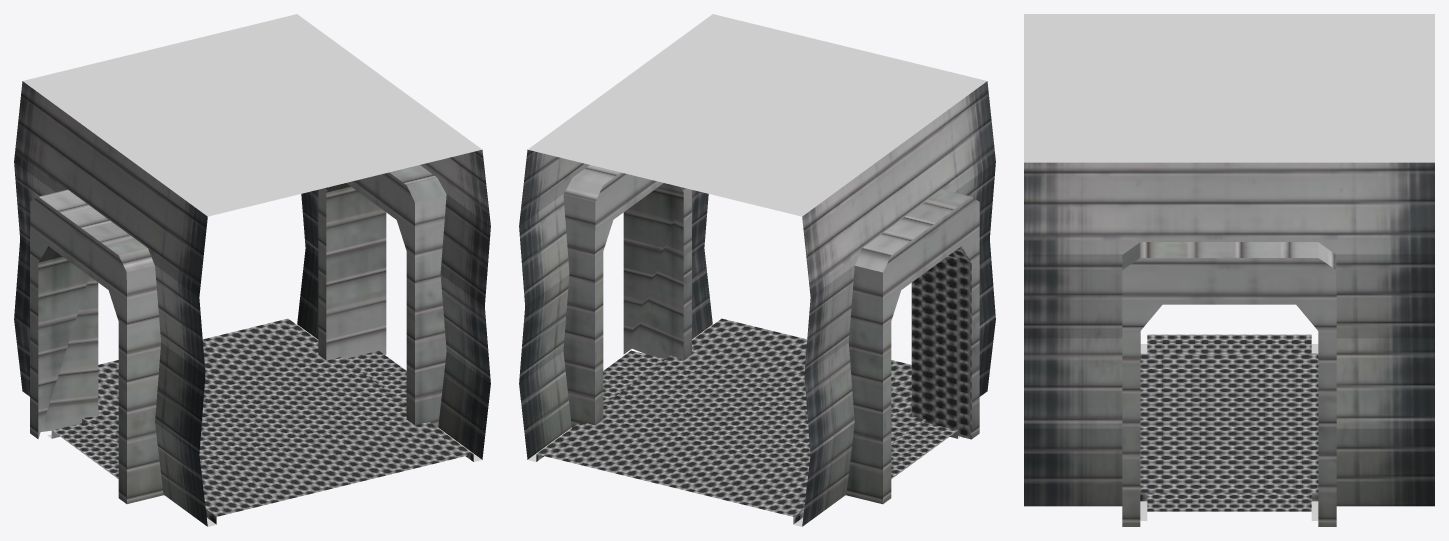
The model's file is 4_Way_Hallway.fbx.
The picture shows the model from 3 angles, left to right: view 1: azimuth 30°, elevation 25°; view 2: azimuth 150°, elevation 25°; view 3: azimuth 270°, elevation 25°; orthographic projection. The views are drawn at different scales.
Visible parts, largest first — view 1: 4_Way_Hallway; view 2: 4_Way_Hallway; view 3: 4_Way_Hallway.
Part boxes in pixels (left/top/right/bottom): 4_Way_Hallway: left=14, top=14, right=490, bottom=526; 4_Way_Hallway: left=519, top=14, right=995, bottom=526; 4_Way_Hallway: left=1024, top=14, right=1434, bottom=526.
Bounding box in the file's own units: 542 × 463 × 500.
